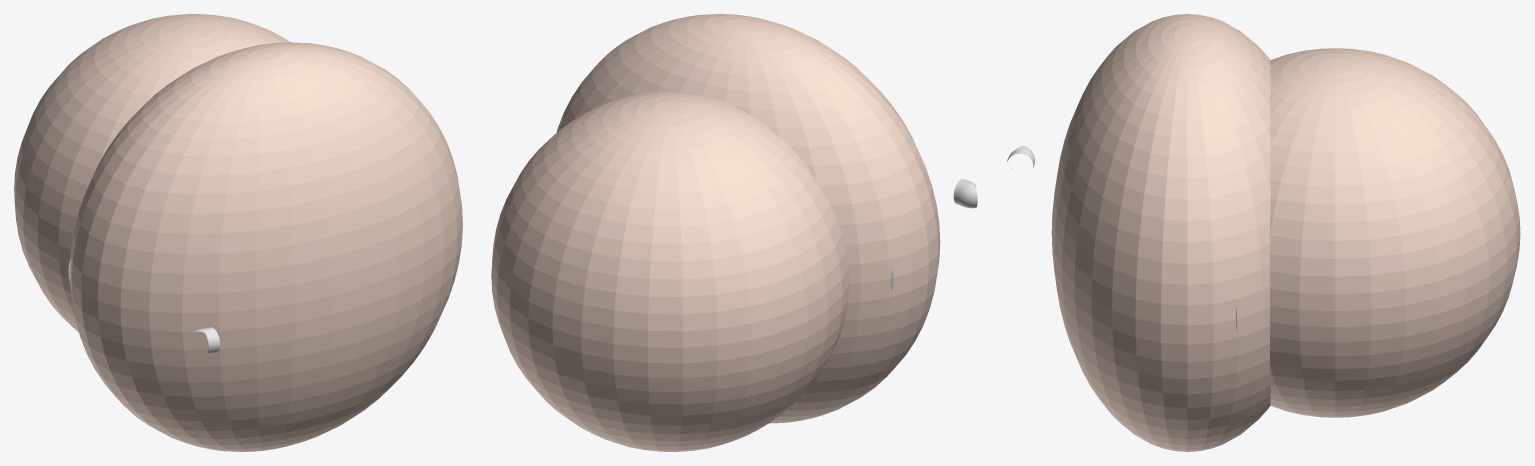
Rendered from fetus_week_24.glb.
3 renders of one model, left to right at view 1: azimuth 30°, elevation 25°; view 2: azimuth 150°, elevation 25°; view 3: azimuth 270°, elevation 25°, orthographic. The views are drawn at different scales.
Visible parts, largest first — view 1: fetal_body_w24, fetal_head_w24; view 2: fetal_head_w24, fetal_body_w24, BézierCurve; view 3: fetal_body_w24, fetal_head_w24.
Boxes of the visible parts, x1,y1,x2,y2 form: fetal_body_w24: (70, 42, 462, 451); fetal_head_w24: (14, 14, 290, 332); fetal_head_w24: (491, 91, 849, 451); fetal_body_w24: (556, 14, 940, 423); BézierCurve: (953, 179, 977, 208); fetal_body_w24: (1051, 14, 1270, 451); fetal_head_w24: (1269, 48, 1520, 417).
Bounding box in the file's own units: 0.2616 × 0.2616 × 0.3067.
